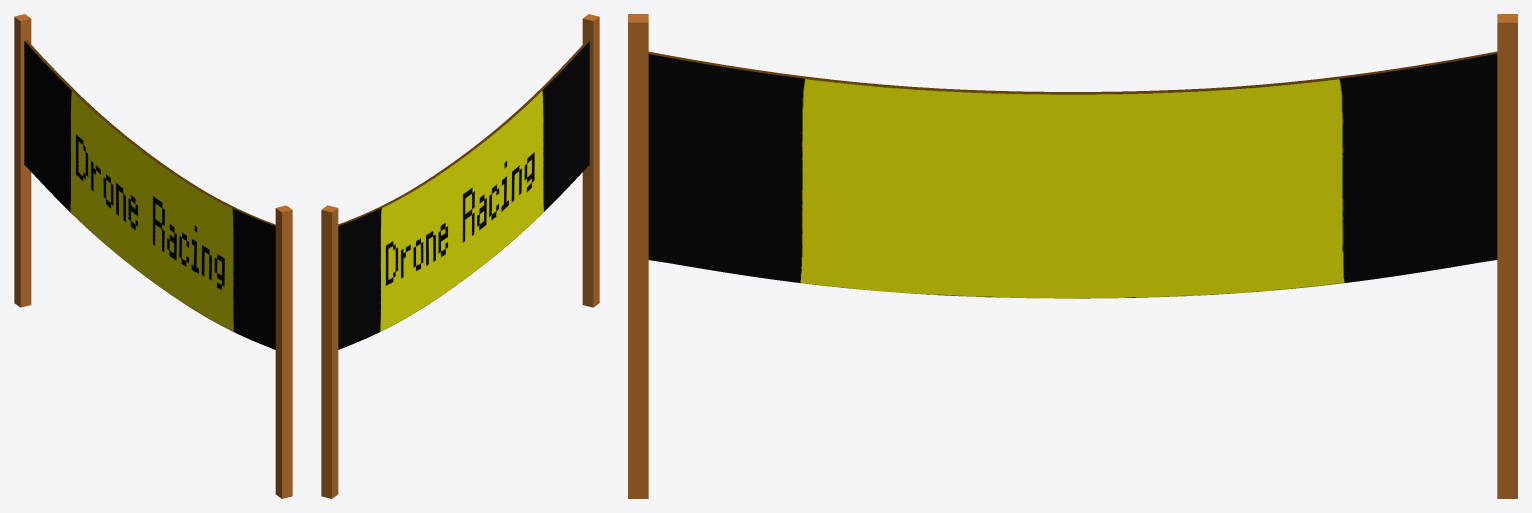
Rendered from DroneRacingBanner.fbx.
3 renders of one model, left to right at view 1: azimuth 30°, elevation 25°; view 2: azimuth 150°, elevation 25°; view 3: azimuth 270°, elevation 25°, orthographic. The views are drawn at different scales.
Visible parts, largest first — view 1: DroneRacingBanner; view 2: DroneRacingBanner; view 3: DroneRacingBanner.
Part boxes in pixels (x1,y1,x2,y2): DroneRacingBanner: (14,14,292,498); DroneRacingBanner: (321,14,599,498); DroneRacingBanner: (628,14,1517,498).
Bounding box in the file's own units: 50.38 × 1277 × 2163.
Materials: 2 (1 with a texture image).
